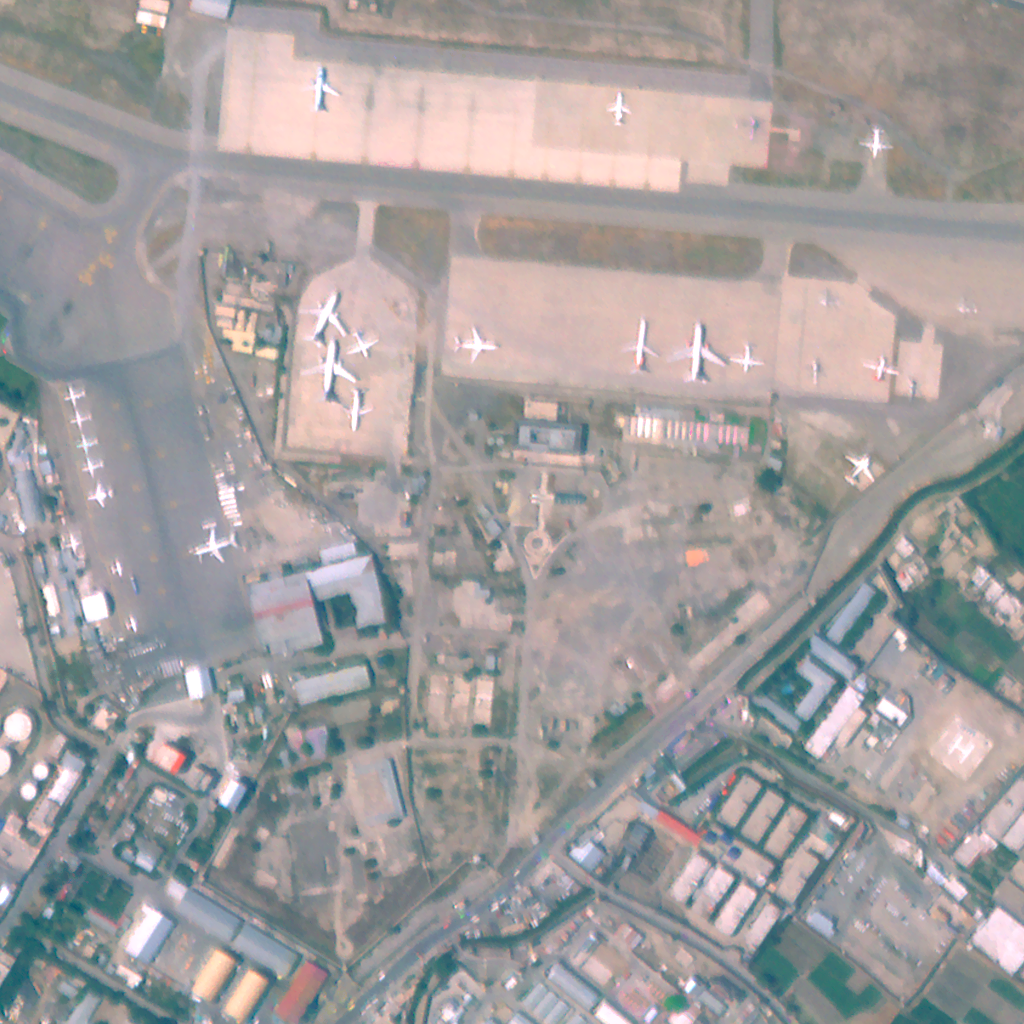plane: (668, 319, 728, 380), (305, 337, 361, 396), (302, 289, 350, 345), (622, 317, 665, 372), (452, 324, 502, 363), (191, 526, 242, 563), (339, 385, 376, 432), (304, 65, 341, 111), (842, 452, 881, 489), (863, 126, 896, 163), (605, 89, 637, 126), (728, 343, 767, 372), (350, 330, 379, 359), (868, 354, 900, 380), (804, 356, 829, 385), (87, 482, 117, 506), (67, 408, 94, 430), (61, 382, 85, 404), (81, 456, 105, 478), (63, 533, 85, 554), (76, 433, 98, 452), (954, 302, 981, 317), (107, 559, 126, 576), (124, 615, 141, 630)
